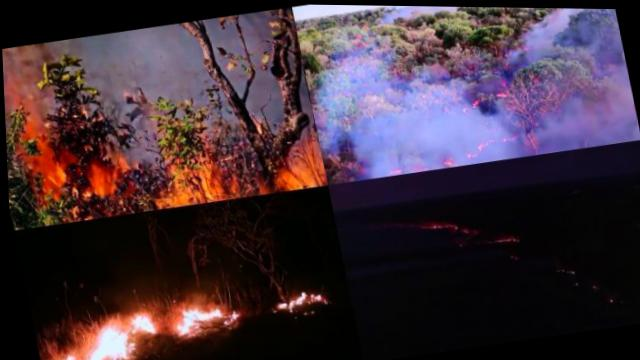fire: (273, 142, 326, 189), (87, 323, 135, 359), (195, 153, 222, 201), (172, 165, 199, 207), (36, 156, 67, 191), (88, 159, 118, 195), (179, 299, 223, 321), (123, 309, 154, 334), (41, 347, 94, 360), (173, 316, 201, 337), (157, 192, 179, 207), (293, 290, 307, 304), (223, 311, 237, 325), (277, 298, 293, 309), (307, 291, 319, 302)
